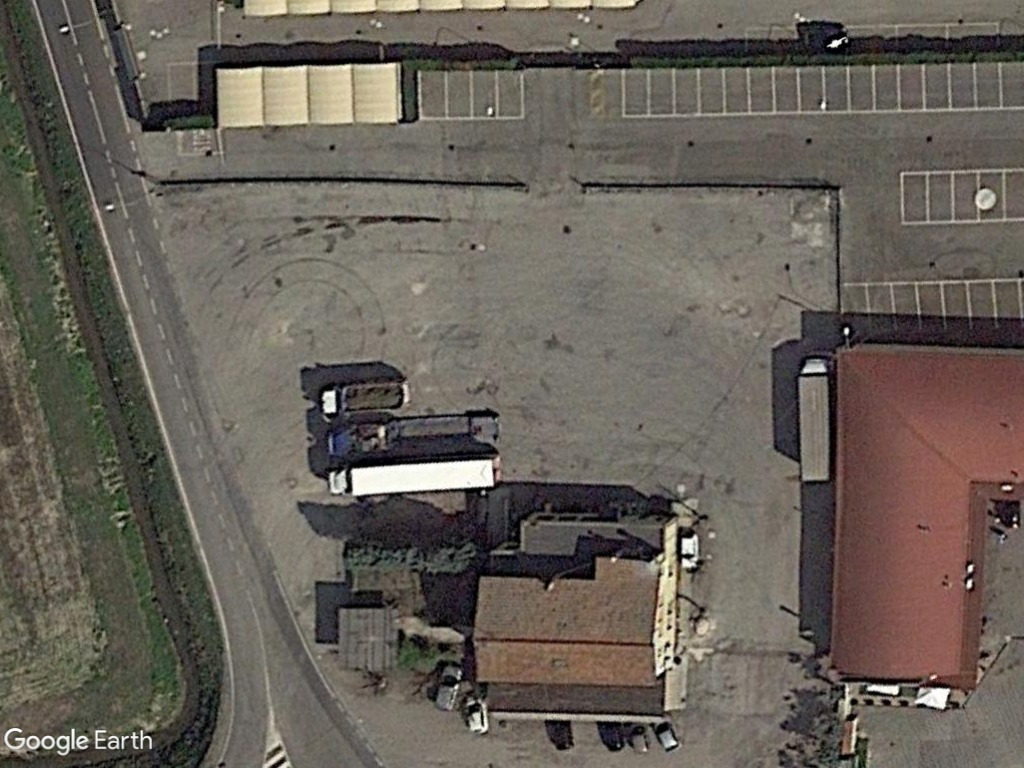car: (432, 662, 464, 714)
longvehicle: (320, 456, 509, 497), (792, 352, 836, 487)
other: (324, 410, 509, 459), (315, 378, 413, 417)
